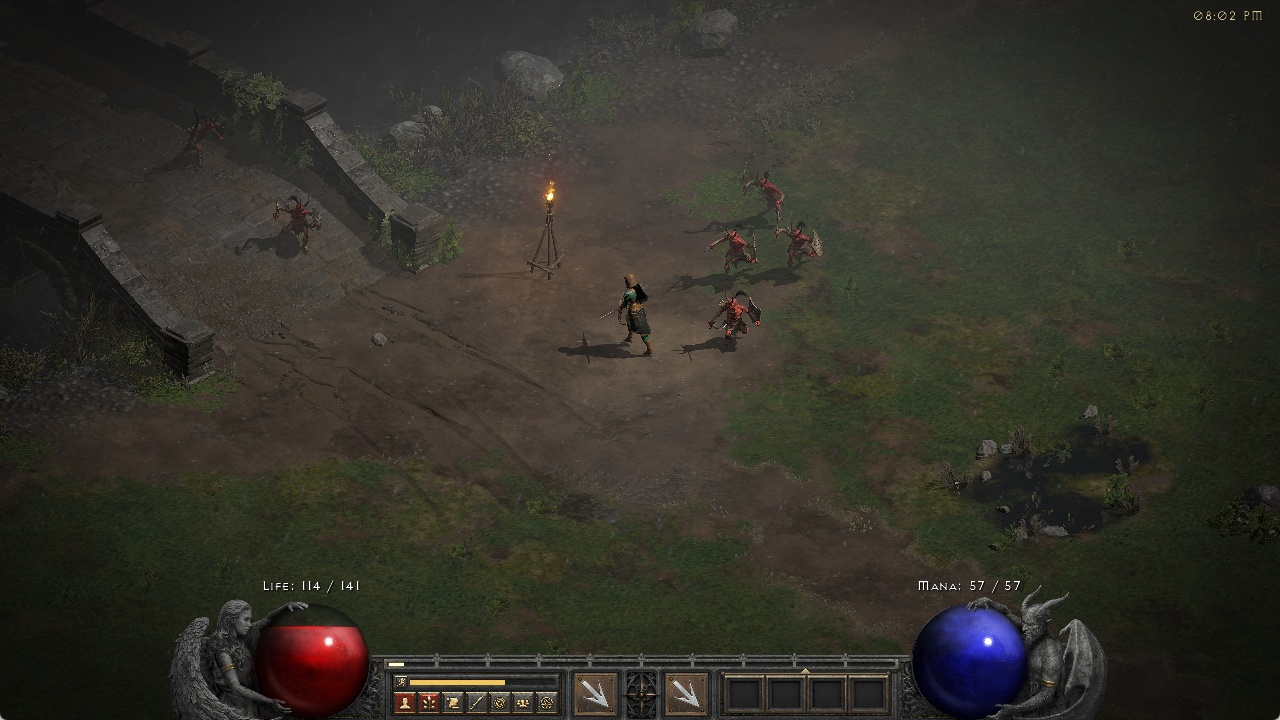fallen: (703, 289, 763, 345), (271, 195, 326, 252), (706, 223, 758, 275), (736, 166, 787, 214), (778, 219, 823, 272), (182, 112, 225, 165)
